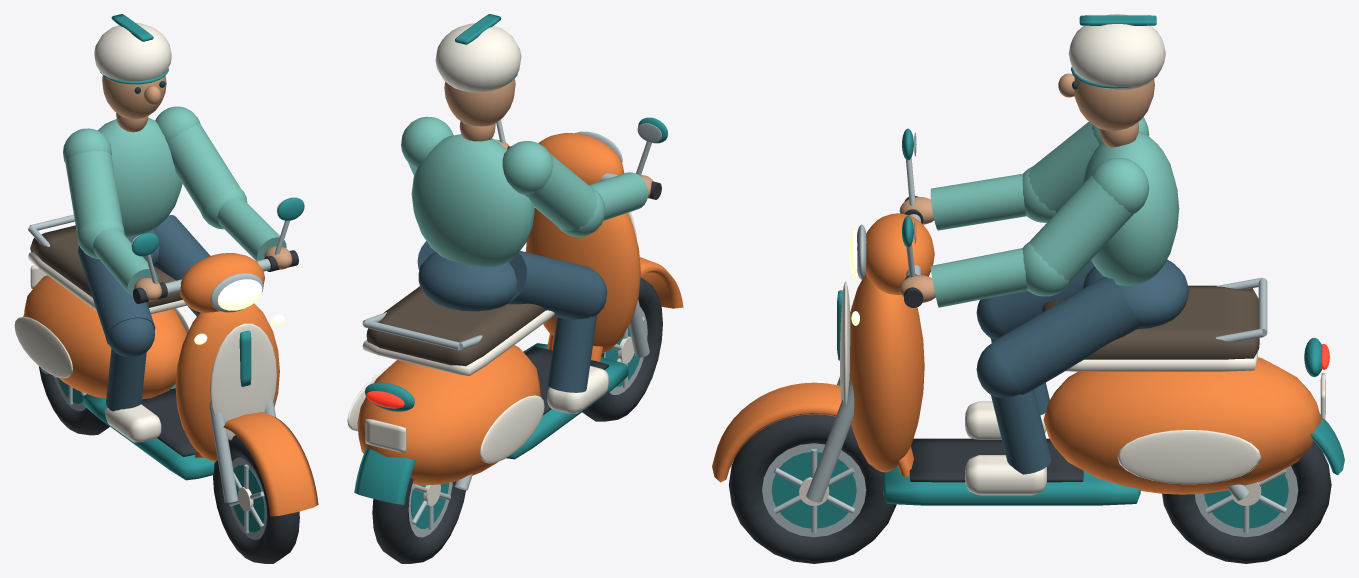
File: nb_scooter_rider.glb
The picture shows the model from 3 angles, left to right: view 1: azimuth 30°, elevation 25°; view 2: azimuth 150°, elevation 25°; view 3: azimuth 270°, elevation 25°; orthographic projection. The views are drawn at different scales.
Parts seen in each view (by area): view 1: delivery orange, jacket mint, trouser navy, edge cream (×2), rubber charcoal (×3), deep teal (×3), warm porcelain, satin silver (×2), skin warm, seat leather, warm headlamp; view 2: delivery orange, jacket mint, trouser navy, edge cream (×2), rubber charcoal (×3), seat leather, deep teal (×3), satin silver (×3), skin warm, warm porcelain, brake red; view 3: delivery orange, jacket mint, rubber charcoal (×3), trouser navy, edge cream (×2), deep teal (×4), satin silver (×3), seat leather, skin warm, warm porcelain.
Part boxes in pixels (x1,y1,x2,y2): delivery orange: [24, 253, 318, 516]; jacket mint: [63, 106, 286, 296]; trouser navy: [78, 215, 210, 411]; edge cream (×2): [14, 23, 189, 442]; rubber charcoal (×3): [38, 250, 299, 563]; deep teal (×3): [23, 14, 304, 532]; warm porcelain: [30, 265, 277, 440]; satin silver (×2): [28, 198, 289, 539]; skin warm: [102, 75, 292, 301]; seat leather: [32, 225, 182, 307]; warm headlamp: [194, 279, 284, 344]; delivery orange: [357, 133, 683, 485]; jacket mint: [401, 116, 648, 266]; trouser navy: [417, 241, 607, 392]; edge cream (×2): [347, 23, 608, 463]; rubber charcoal (×3): [372, 146, 662, 563]; seat leather: [366, 286, 545, 366]; deep teal (×3): [354, 14, 667, 528]; satin silver (×3): [362, 119, 661, 537]; skin warm: [444, 78, 652, 198]; warm porcelain: [365, 212, 636, 452]; brake red: [366, 391, 404, 408]; delivery orange: [712, 213, 1321, 494]; jacket mint: [930, 117, 1179, 307]; rubber charcoal (×3): [729, 196, 1331, 563]; trouser navy: [976, 259, 1189, 474]; edge cream (×2): [965, 14, 1261, 495]; deep teal (×4): [771, 15, 1344, 528]; satin silver (×3): [762, 132, 1298, 537]; seat leather: [1042, 285, 1259, 359]; skin warm: [899, 73, 1154, 302]; warm porcelain: [840, 281, 1325, 421].
Size of the model in its own units: 0.731 by 1.79 by 1.89.
